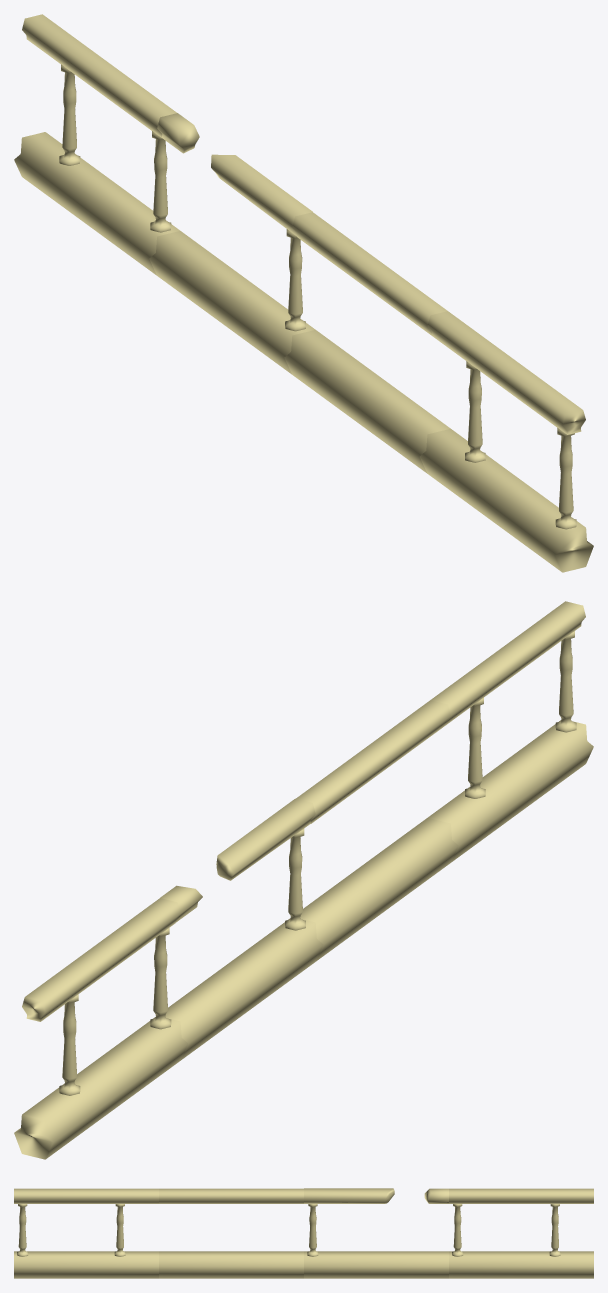
Rendered from Wood_Baluster_01_lod1.fbx.
The picture shows the model from 3 angles, top to bottom: view 1: azimuth 30°, elevation 25°; view 2: azimuth 150°, elevation 25°; view 3: azimuth 270°, elevation 25°; orthographic projection. The views are drawn at different scales.
Parts seen in each view (by area): view 1: Wood_Baluster_01_lod1; view 2: Wood_Baluster_01_lod1; view 3: Wood_Baluster_01_lod1.
Part boxes in pixels (x1,y1,x2,y2): Wood_Baluster_01_lod1: (14,14,593,572); Wood_Baluster_01_lod1: (14,601,593,1159); Wood_Baluster_01_lod1: (14,1188,593,1278).
Bounding box in the file's own units: 25.19 × 96.83 × 600.
